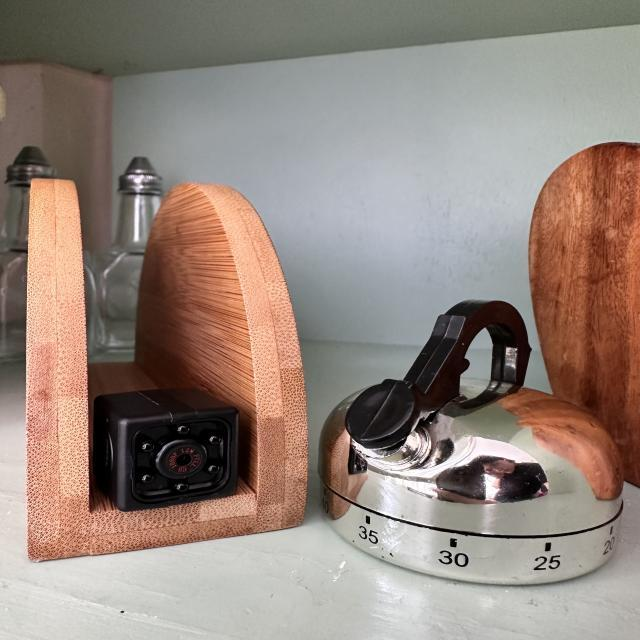hidden camera: (161, 441, 206, 478)
